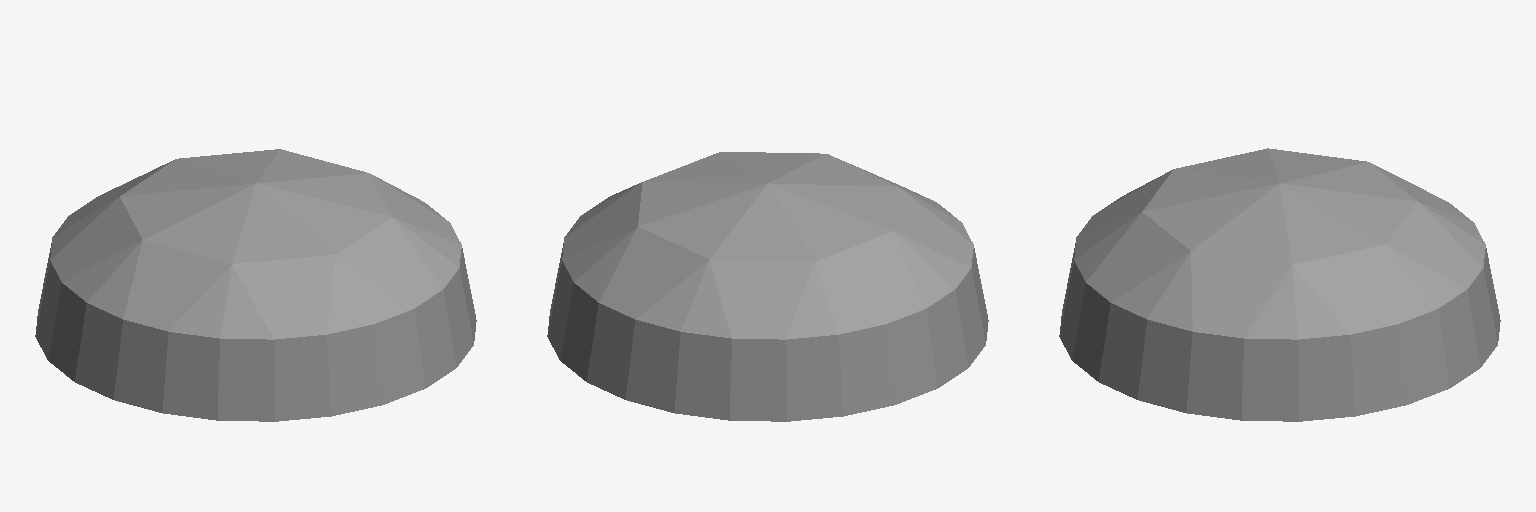
The model's file is Skybox2.obj.
The picture shows the model from 3 angles: view 1: azimuth 30°, elevation 25°; view 2: azimuth 150°, elevation 25°; view 3: azimuth 270°, elevation 25°; orthographic projection.
Visible parts, largest first — view 1: Object_2; view 2: Object_2; view 3: Object_2.
Boxes of the visible parts, x1,y1,x2,y2 form: Object_2: [35, 149, 476, 421]; Object_2: [547, 152, 988, 421]; Object_2: [1059, 148, 1500, 421].
Size of the model in its own units: 99619 by 36138 by 99619.